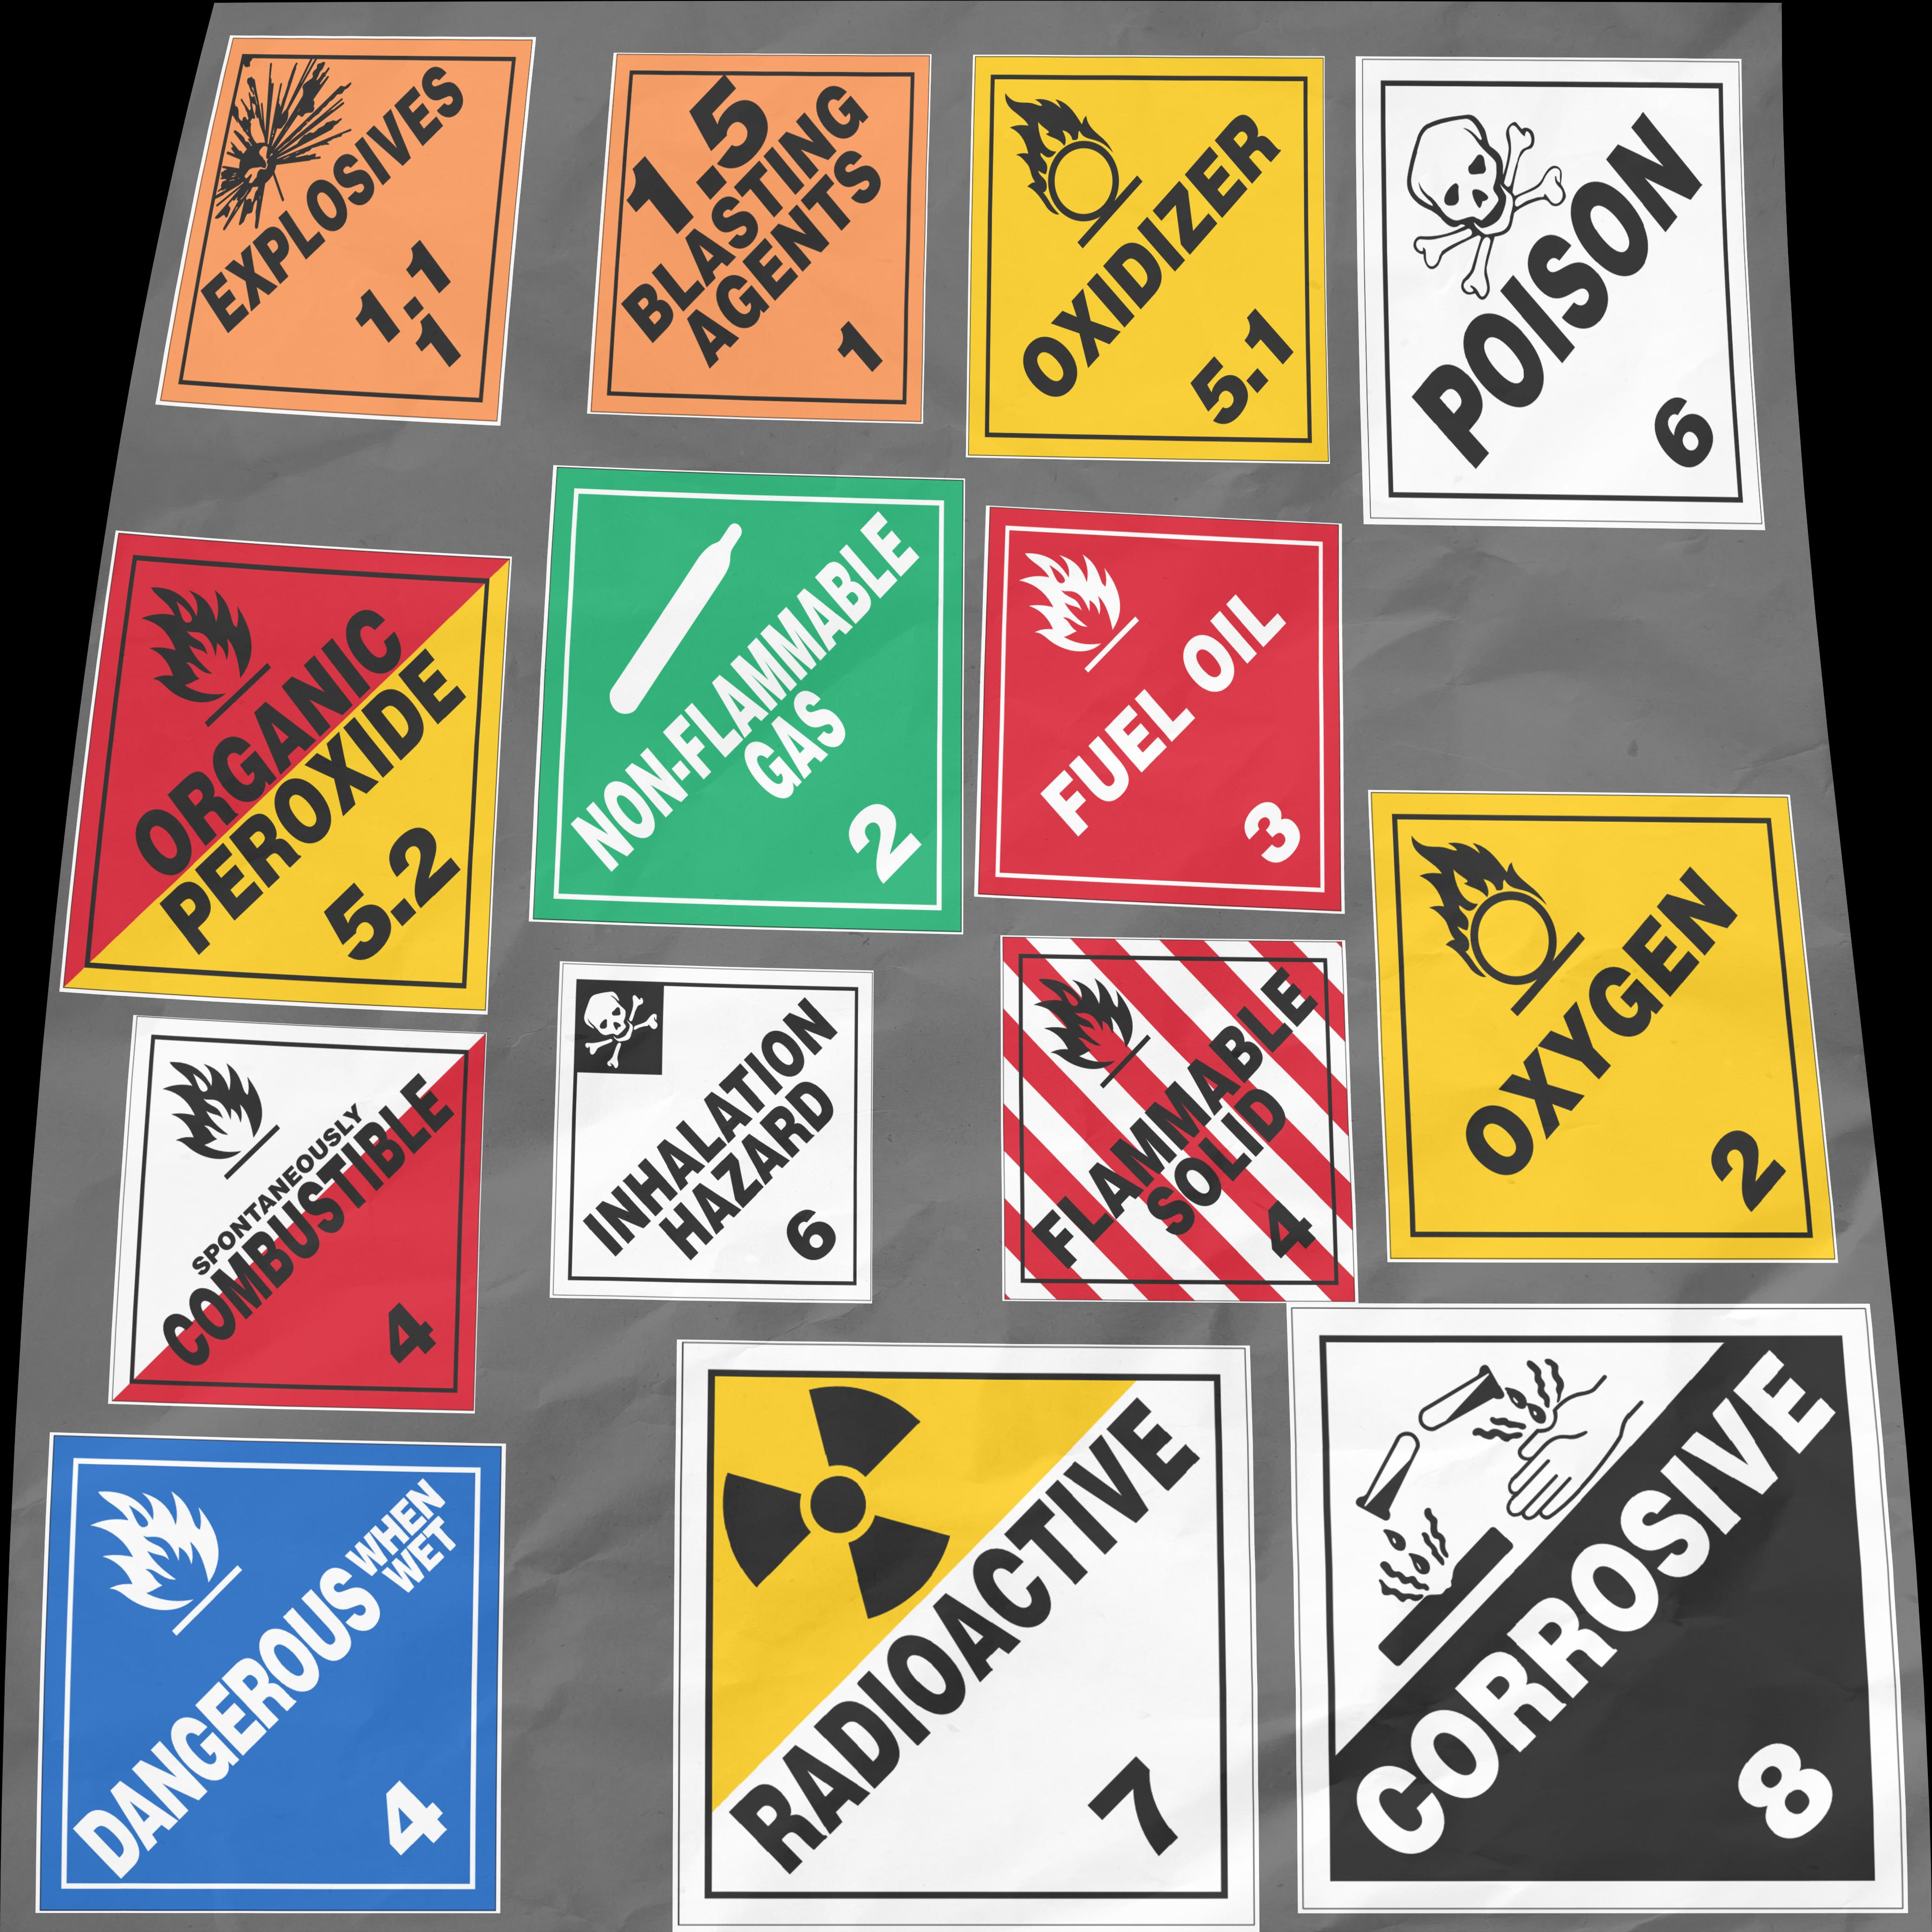corrosive: (1290, 1309, 1905, 1918)
dangerous-when-wet: (39, 1433, 497, 1911)
explosive: (154, 28, 541, 442), (584, 48, 932, 428)
flammable: (980, 501, 1341, 915)
flammable-solid: (1000, 932, 1361, 1311)
non-flammable-gas: (540, 464, 966, 934)
organic-peroxide: (65, 525, 517, 1019)
oxidizer: (1371, 791, 1842, 1279), (962, 44, 1338, 467)
poison: (1353, 53, 1773, 538), (554, 957, 876, 1311)
radioactive: (671, 1339, 1261, 1932)
spontaneously-combustible: (117, 1016, 478, 1421)
